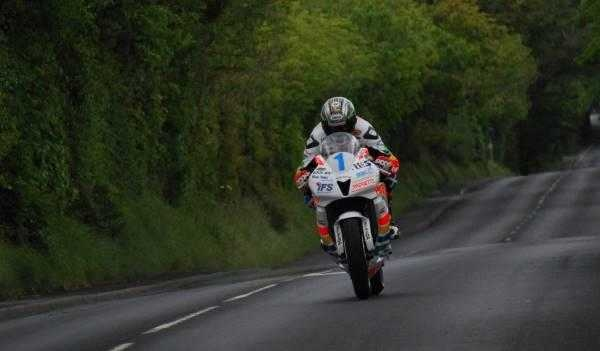motorcycle: (295, 135, 408, 304)
